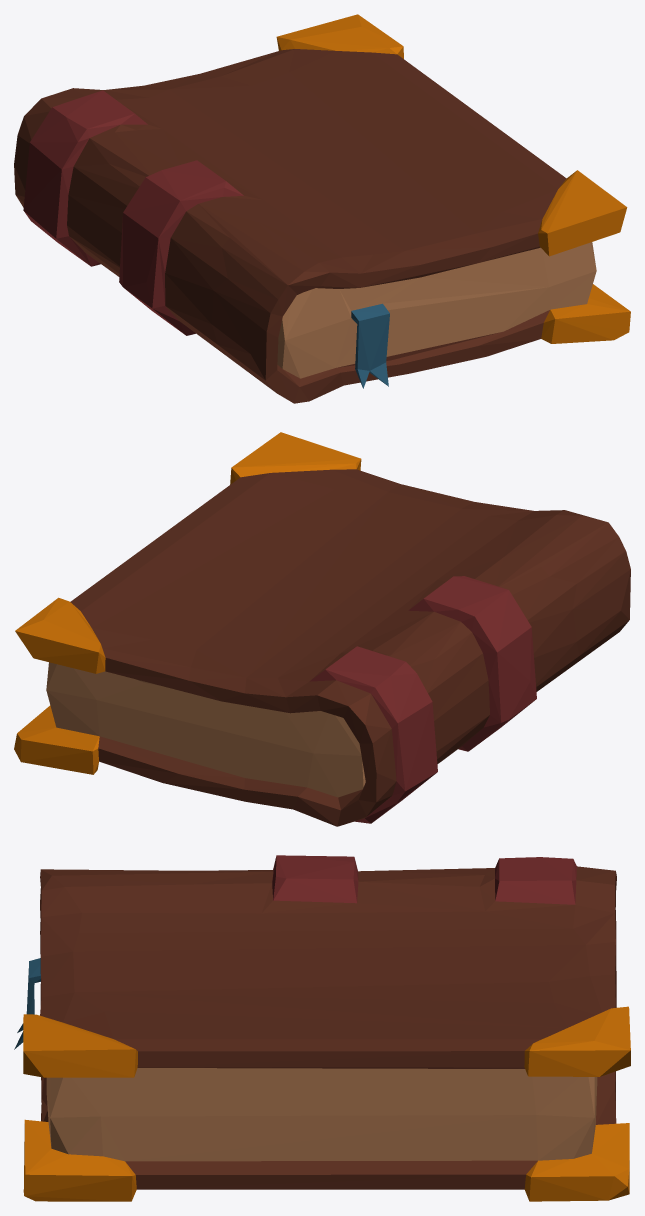
The model's file is MDungeon_Book_02.FBX.
3 views of the same model, one above another, from view 1: azimuth 30°, elevation 25°; view 2: azimuth 150°, elevation 25°; view 3: azimuth 270°, elevation 25° (orthographic). The views are drawn at different scales.
Parts seen in each view (by area): view 1: MDgn_Book_02_LOD0; view 2: MDgn_Book_02_LOD0; view 3: MDgn_Book_02_LOD0.
Boxes of the visible parts, left/top/right/bottom form: MDgn_Book_02_LOD0: left=14, top=14, right=630, bottom=403; MDgn_Book_02_LOD0: left=14, top=432, right=630, bottom=826; MDgn_Book_02_LOD0: left=14, top=855, right=630, bottom=1201.
Size of what is drawn, in the model's own units: 0.4772 by 0.1771 by 0.6032.
